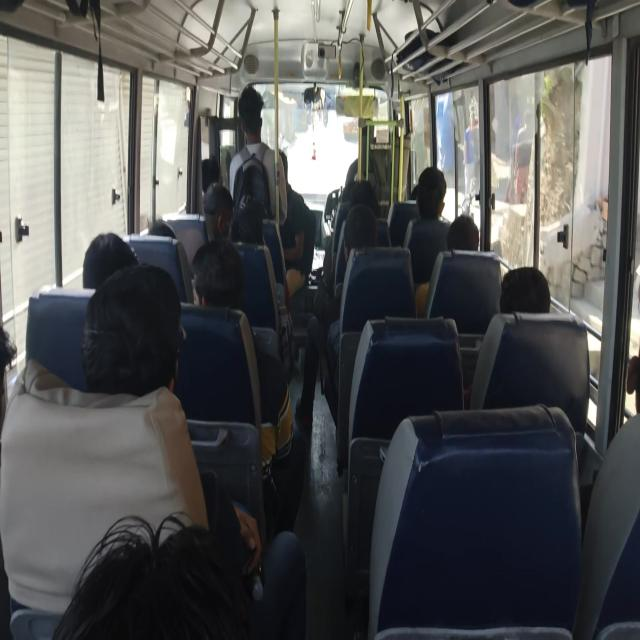person: (81, 261, 262, 583), (52, 488, 307, 638), (190, 237, 305, 535), (294, 203, 378, 433), (469, 265, 551, 409), (228, 84, 288, 227), (415, 213, 479, 317), (277, 148, 316, 296), (402, 165, 450, 285), (82, 231, 139, 289), (499, 265, 550, 314), (512, 107, 536, 204), (462, 98, 479, 211), (202, 181, 234, 241), (415, 165, 447, 221), (447, 214, 479, 251)
